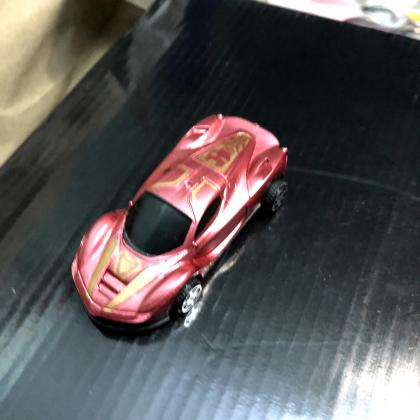Car: (70, 113, 289, 336)
